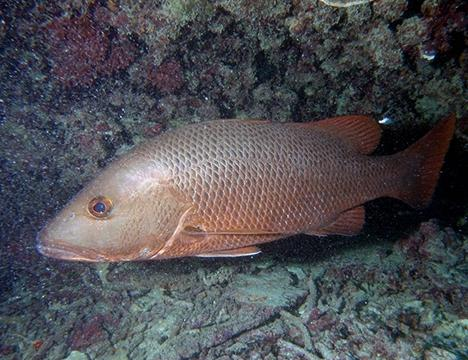Lutjanidae -Snappers-: (33, 102, 468, 271)
